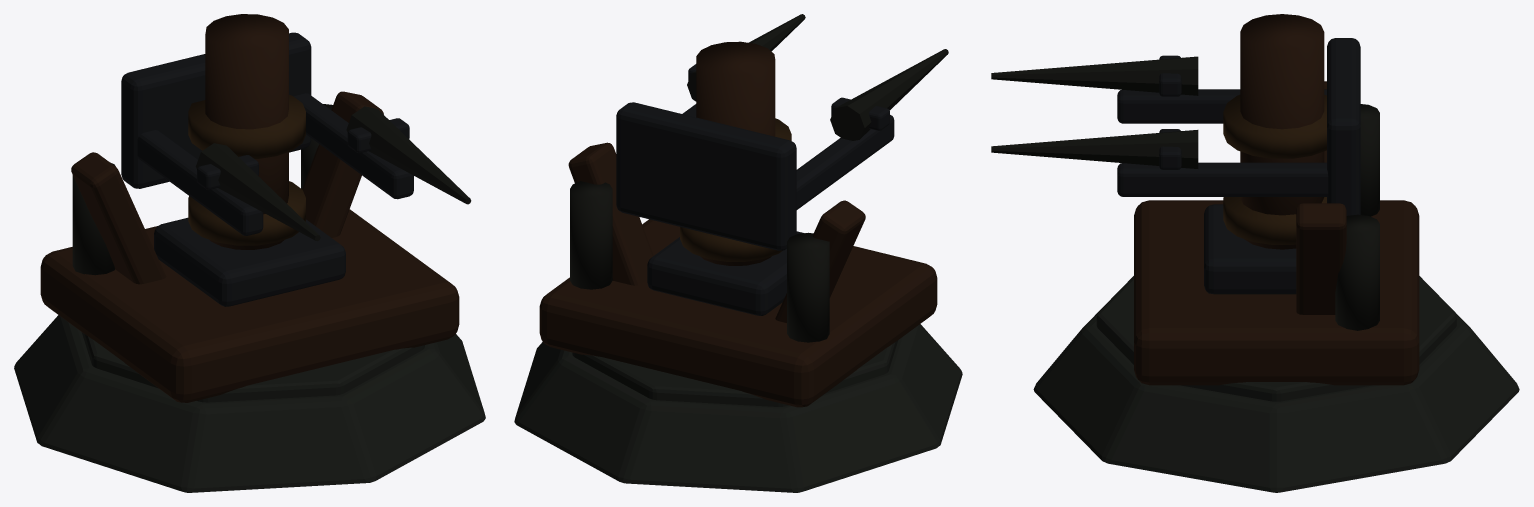
The model's file is TowerAir2.obj.
3 views of the same model, side by side, from view 1: azimuth 30°, elevation 25°; view 2: azimuth 150°, elevation 25°; view 3: azimuth 270°, elevation 25° (orthographic). The views are drawn at different scales.
Parts seen in each view (by area): view 1: cut_stone_socket_lower_course, oak_sky_platform, oak_launch_mast, iron_mast_socket, iron_wind_shroud, oak_angled_stay, cut_stone_socket_upper_course, oak_angled_stay.001, iron_sky_rail, bronze_guide_collar.001, iron_sky_rail.001, sky_lance (+5 smaller); view 2: cut_stone_socket_lower_course, oak_sky_platform, iron_wind_shroud, oak_launch_mast, iron_mast_socket, cut_stone_socket_upper_course, reserve_lance_tube, reserve_lance_tube.001, oak_angled_stay.001, iron_sky_rail, sky_lance, oak_angled_stay (+3 smaller); view 3: cut_stone_socket_lower_course, oak_sky_platform, oak_launch_mast, iron_sky_rail.001, cut_stone_socket_upper_course, iron_wind_shroud, iron_mast_socket, oak_angled_stay.001, sky_lance, sky_lance.001, reserve_lance_tube.001, bronze_guide_collar.001 (+5 smaller).
Part boxes in pixels (<box>): cut_stone_socket_lower_course: <box>14,315,485,492</box>; oak_sky_platform: <box>40,209,459,402</box>; oak_launch_mast: <box>205,14,288,249</box>; iron_mast_socket: <box>154,217,345,306</box>; iron_wind_shroud: <box>121,32,311,188</box>; oak_angled_stay: <box>71,152,166,284</box>; cut_stone_socket_upper_course: <box>81,332,424,402</box>; oak_angled_stay.001: <box>302,91,383,237</box>; iron_sky_rail: <box>137,130,263,235</box>; bronze_guide_collar.001: <box>188,94,305,158</box>; iron_sky_rail.001: <box>294,93,413,199</box>; sky_lance: <box>195,143,320,241</box>; cut_stone_socket_lower_course: <box>514,324,962,492</box>; oak_sky_platform: <box>539,219,937,407</box>; iron_wind_shroud: <box>616,102,796,250</box>; oak_launch_mast: <box>696,41,775,265</box>; iron_mast_socket: <box>647,231,804,315</box>; cut_stone_socket_upper_course: <box>572,340,898,406</box>; reserve_lance_tube: <box>787,232,829,342</box>; reserve_lance_tube.001: <box>570,181,612,289</box>; oak_angled_stay.001: <box>568,142,653,285</box>; iron_sky_rail: <box>796,115,894,209</box>; sky_lance: <box>830,49,948,140</box>; oak_angled_stay: <box>775,200,865,322</box>; cut_stone_socket_lower_course: <box>1033,276,1519,492</box>; oak_sky_platform: <box>1134,200,1419,385</box>; oak_launch_mast: <box>1240,14,1324,249</box>; iron_sky_rail.001: <box>1117,162,1328,196</box>; cut_stone_socket_upper_course: <box>1096,277,1456,401</box>; iron_wind_shroud: <box>1327,38,1360,215</box>; iron_mast_socket: <box>1204,204,1296,294</box>; oak_angled_stay.001: <box>1296,203,1346,314</box>; sky_lance: <box>991,56,1198,95</box>; sky_lance.001: <box>991,130,1198,168</box>; reserve_lance_tube.001: <box>1335,214,1379,330</box>; bronze_guide_collar.001: <box>1223,94,1326,158</box>.
Size of the model in its own units: 1.74 by 1.42 by 1.89.
